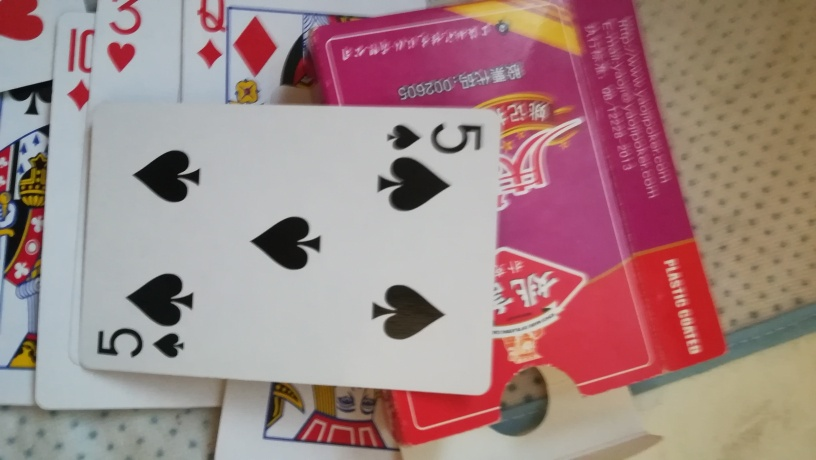ht 5: (78, 90, 496, 396)
